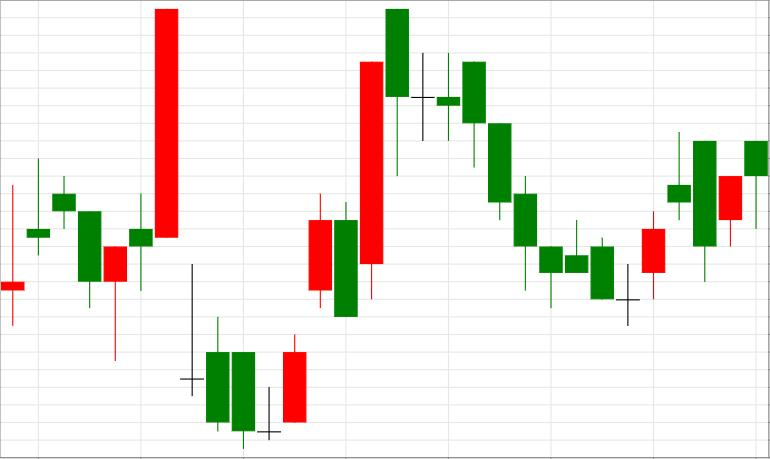morning_star_rise: (386, 8, 665, 326), (154, 10, 306, 448)
